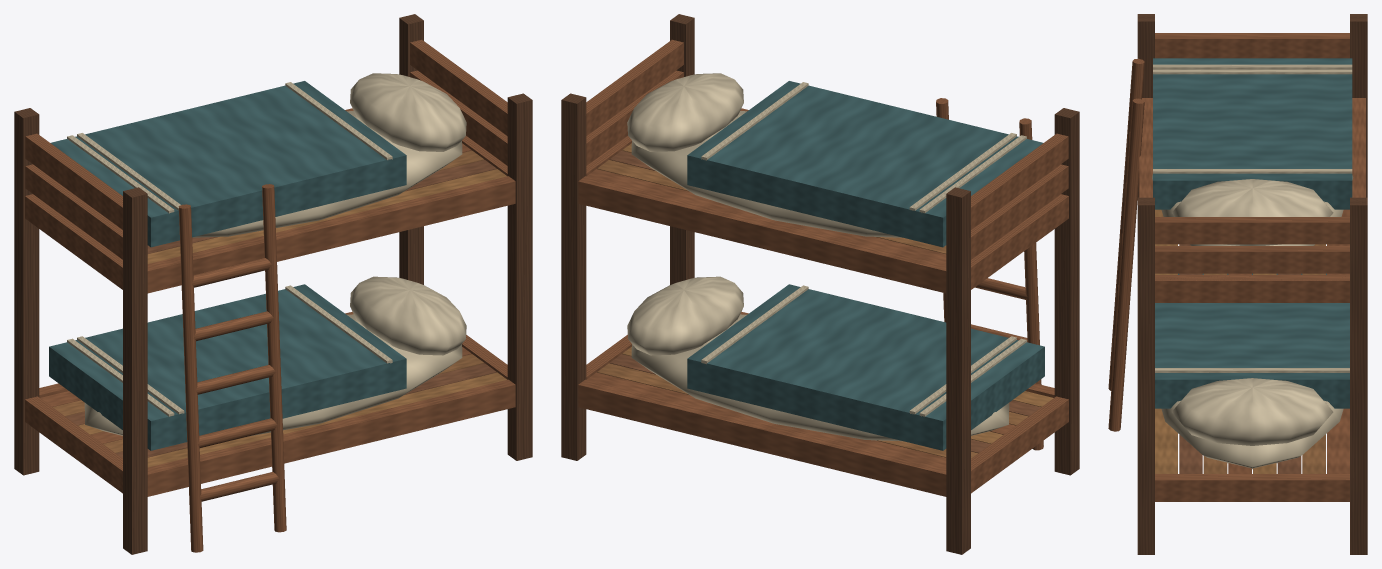
File: bunk.glb
The picture shows the model from 3 angles, left to right: view 1: azimuth 30°, elevation 25°; view 2: azimuth 150°, elevation 25°; view 3: azimuth 270°, elevation 25°; orthographic projection. The views are drawn at different scales.
Parts seen in each view (by area): view 1: bunk; view 2: bunk; view 3: bunk.
Boxes of the visible parts, box(x1,y1,x2,y2) form: bunk: box(14, 14, 532, 554); bunk: box(561, 14, 1079, 554); bunk: box(1108, 14, 1367, 554).
Bounding box in the file's own units: 2.05 × 1.75 × 1.17.
1 material, 1 textured.
